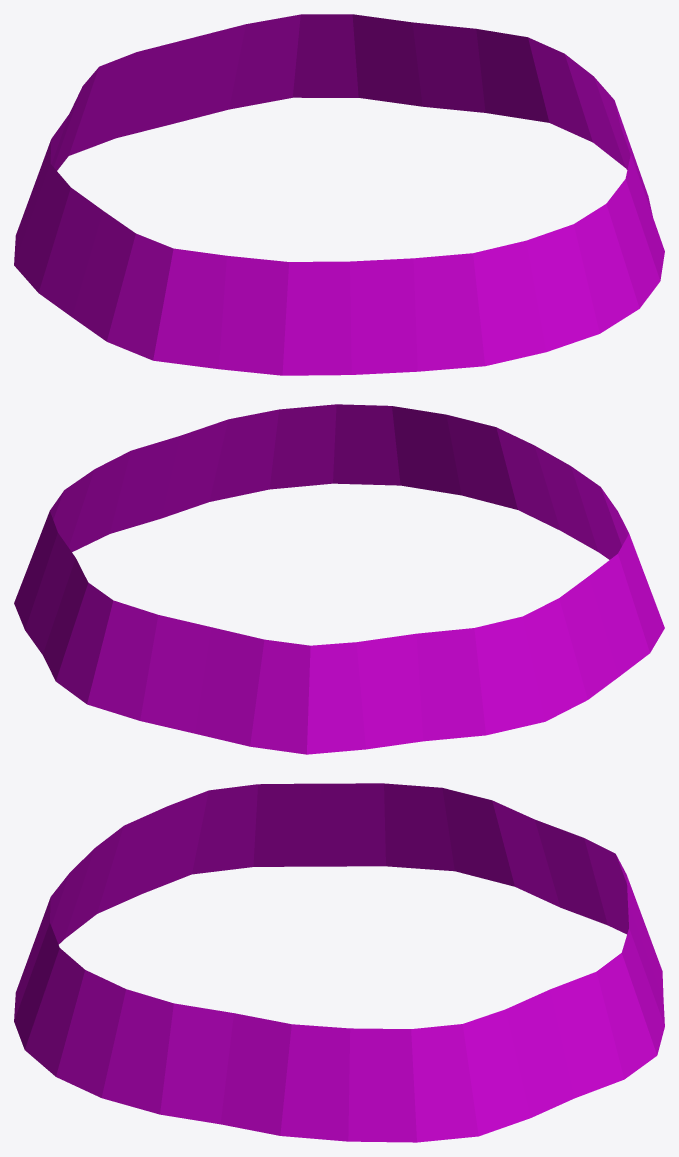
Rendered from wall_collider_mainRoom.FBX.
3 views of the same model, one above another, from view 1: azimuth 30°, elevation 25°; view 2: azimuth 150°, elevation 25°; view 3: azimuth 270°, elevation 25° (orthographic). The views are drawn at different scales.
Visible parts, largest first — view 1: Wall_final_collider_Retopo; view 2: Wall_final_collider_Retopo; view 3: Wall_final_collider_Retopo.
Boxes of the visible parts, x1,y1,x2,y2 form: Wall_final_collider_Retopo: (14, 14, 664, 375); Wall_final_collider_Retopo: (14, 404, 664, 754); Wall_final_collider_Retopo: (14, 783, 664, 1142).
Size of the model in its own units: 3017 by 500 by 3005.
